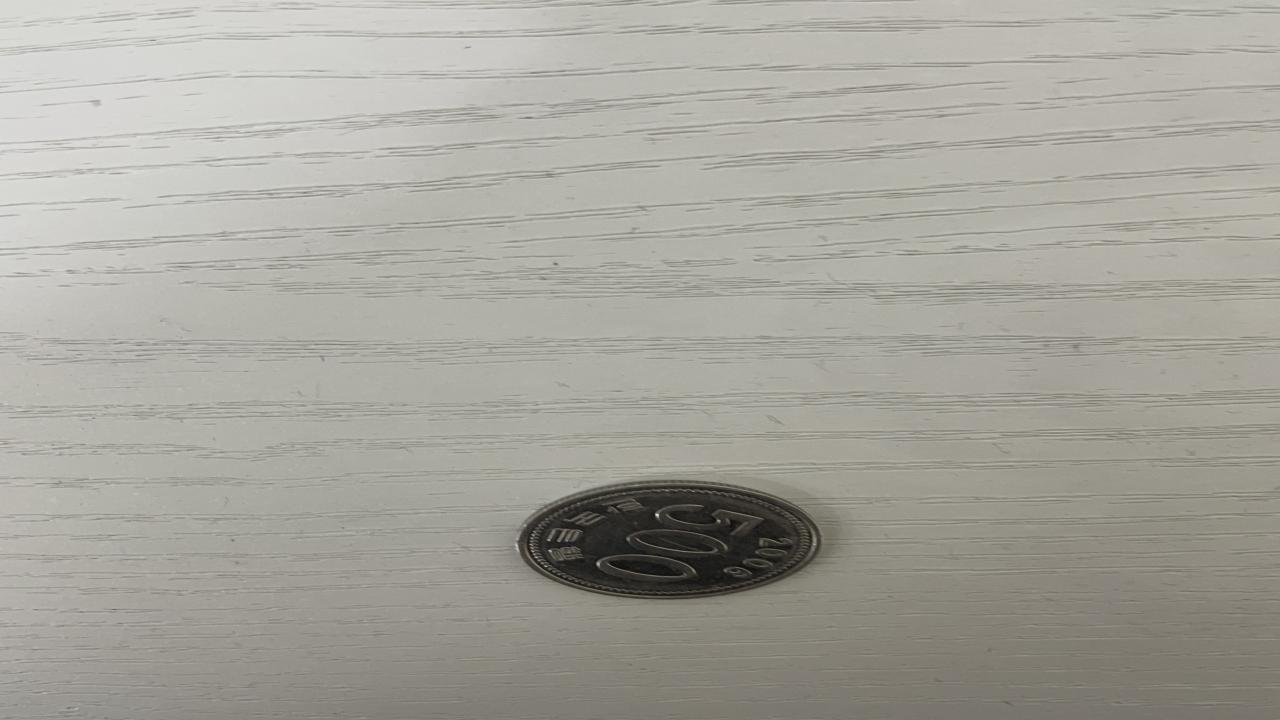coin: (514, 480, 820, 596)
